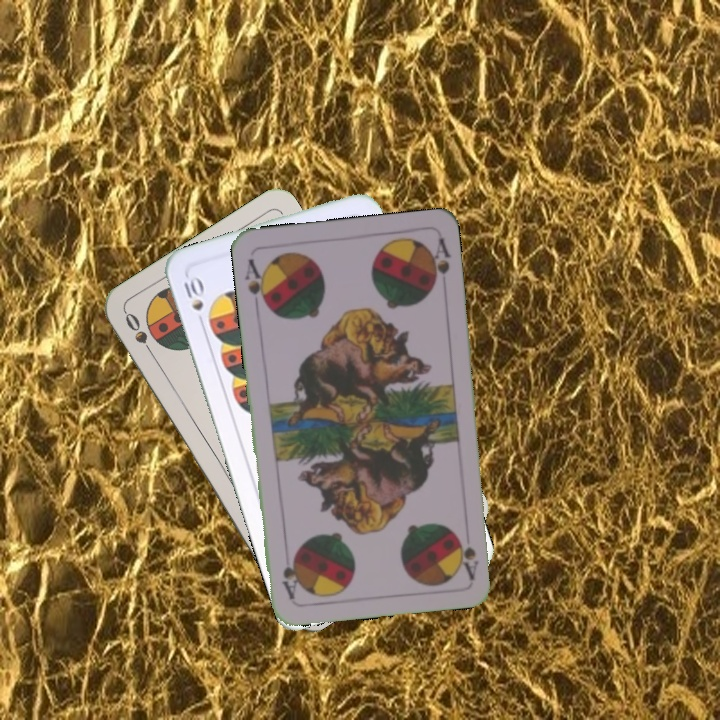S10: (179, 272, 207, 330)
SA: (241, 255, 271, 312), (455, 533, 481, 581)
SO: (121, 308, 159, 362)
